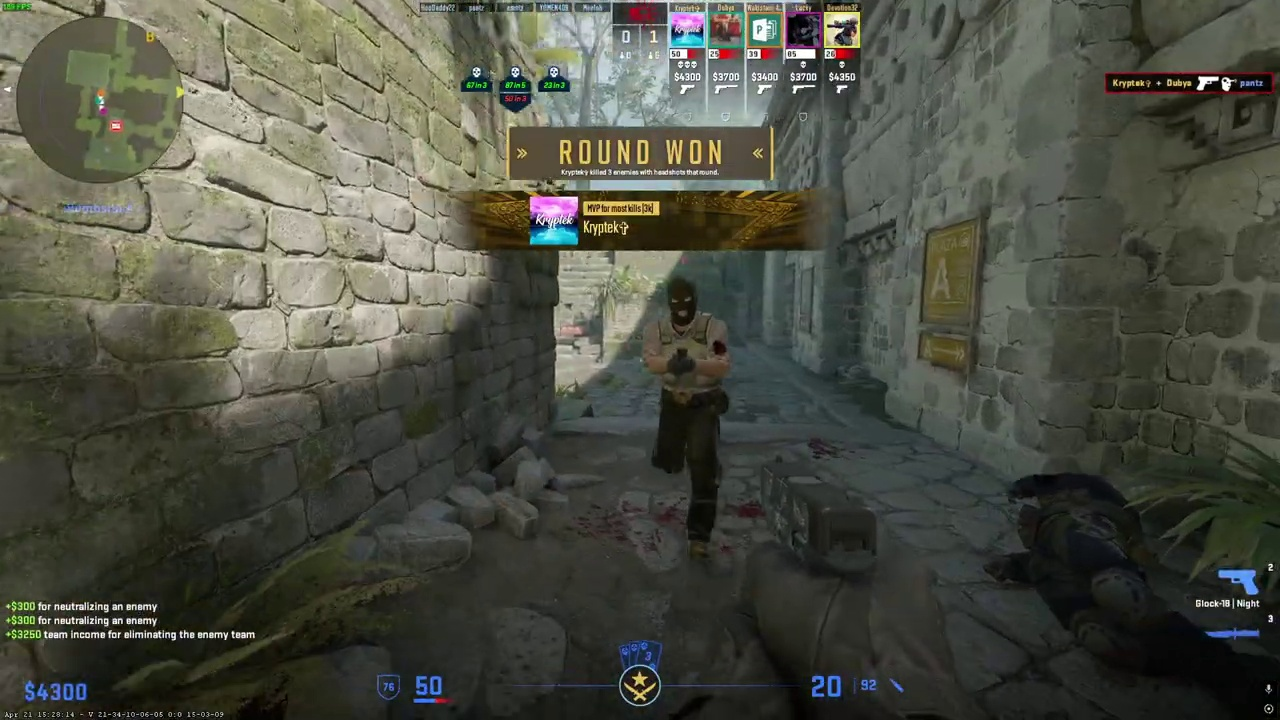Terrorist: (642, 276, 729, 561)
